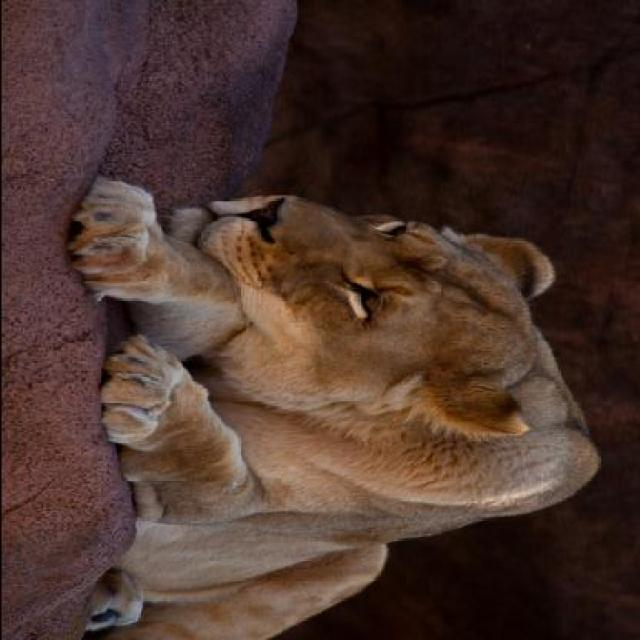Lion: (57, 166, 615, 639)
